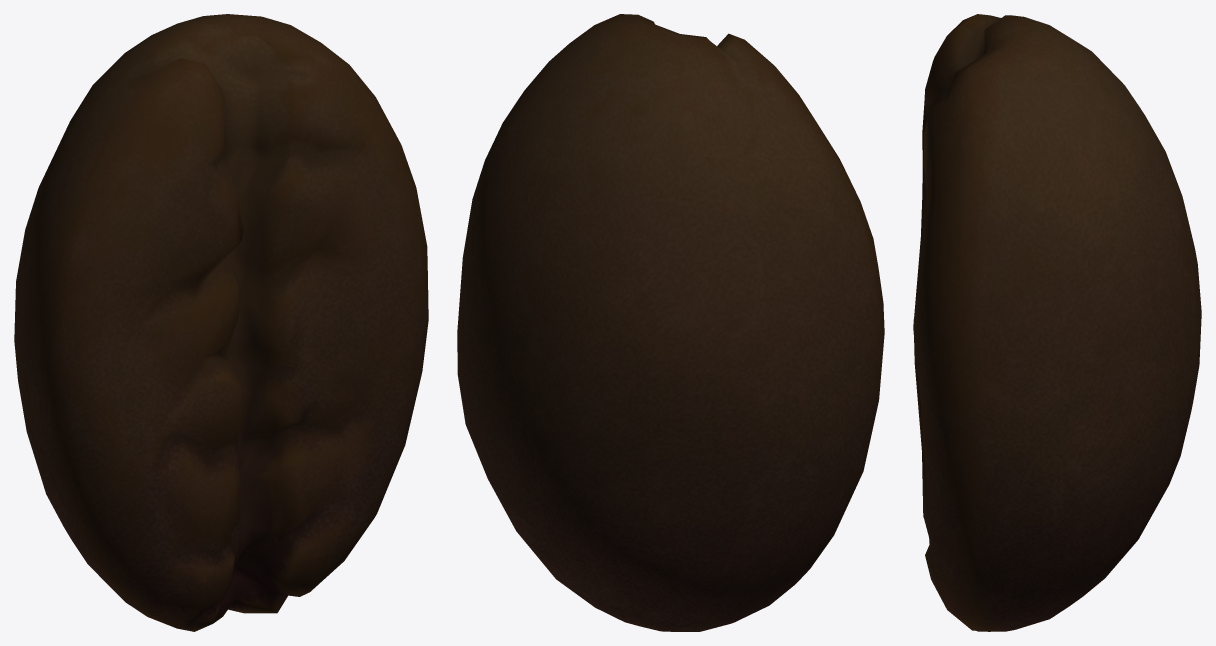
Rendered from coffee.glb.
3 renders of one model, left to right at view 1: azimuth 30°, elevation 25°; view 2: azimuth 150°, elevation 25°; view 3: azimuth 270°, elevation 25°, orthographic. The views are drawn at different scales.
Visible parts, largest first — view 1: COFFEE; view 2: COFFEE; view 3: COFFEE.
Part boxes in pixels (<box>): COFFEE: <box>14,14,428,631</box>; COFFEE: <box>457,14,884,631</box>; COFFEE: <box>913,14,1201,631</box>.
Bounding box in the file's own units: 2.01 × 2.97 × 1.33.
1 material, 1 textured.
